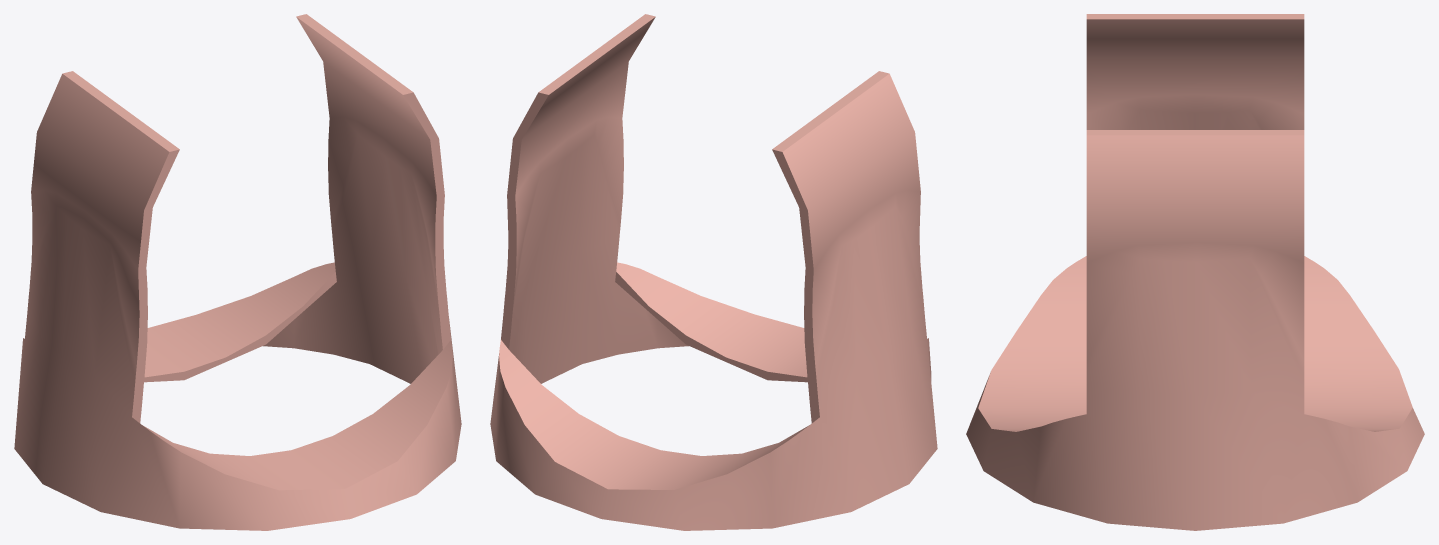
File: wrist_roll.dae
The picture shows the model from 3 angles, left to right: view 1: azimuth 30°, elevation 25°; view 2: azimuth 150°, elevation 25°; view 3: azimuth 270°, elevation 25°; orthographic projection.
Visible parts, largest first — view 1: 3dof_wrist_assy_r; view 2: 3dof_wrist_assy_r; view 3: 3dof_wrist_assy_r.
Boxes of the visible parts, left/top/right/bottom form: 3dof_wrist_assy_r: left=14, top=14, right=461, bottom=530; 3dof_wrist_assy_r: left=490, top=14, right=937, bottom=530; 3dof_wrist_assy_r: left=966, top=14, right=1424, bottom=530.
Size of the model in its own units: 80 by 80 by 69.16.
